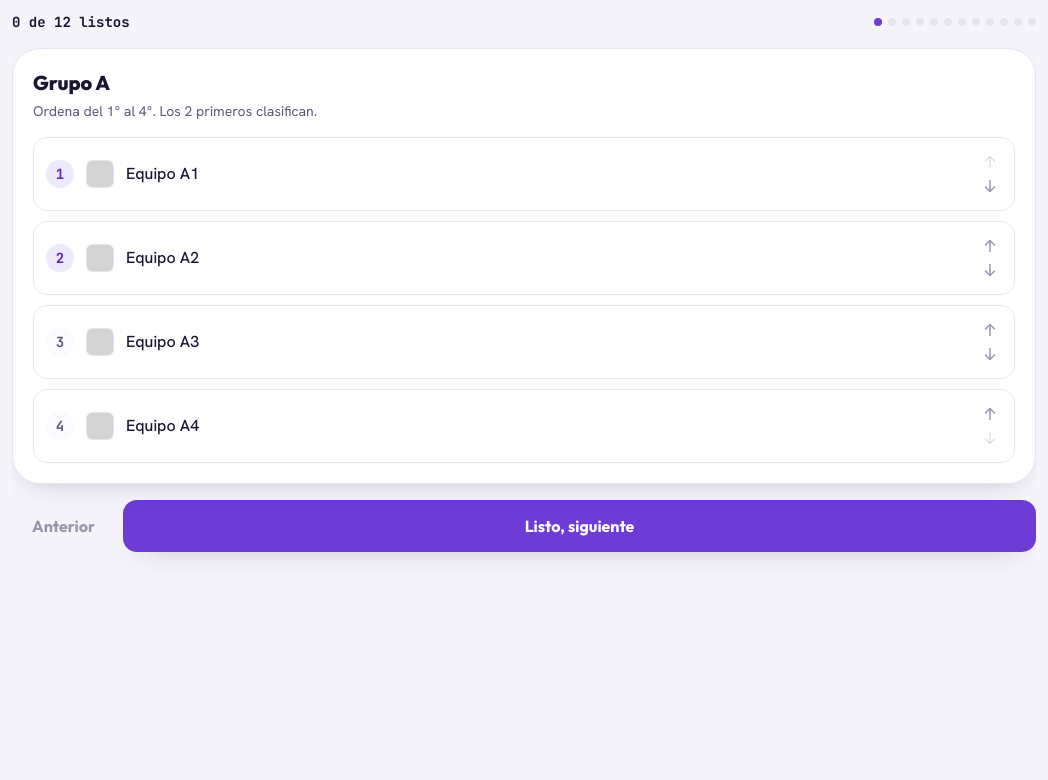
Scenario: GroupDeck › guardar un grupo sube el contador (invalida predictionsMe)
The image size is (1048, 780).
Expected: the text "0 de 12 listos" is shown, 12,12 -> 130,32
What coordinates should you click on to do the following:
click the button "Listo, siguiente"
I would click on:
 (580, 526)
Its box is 123,500 -> 1036,552.
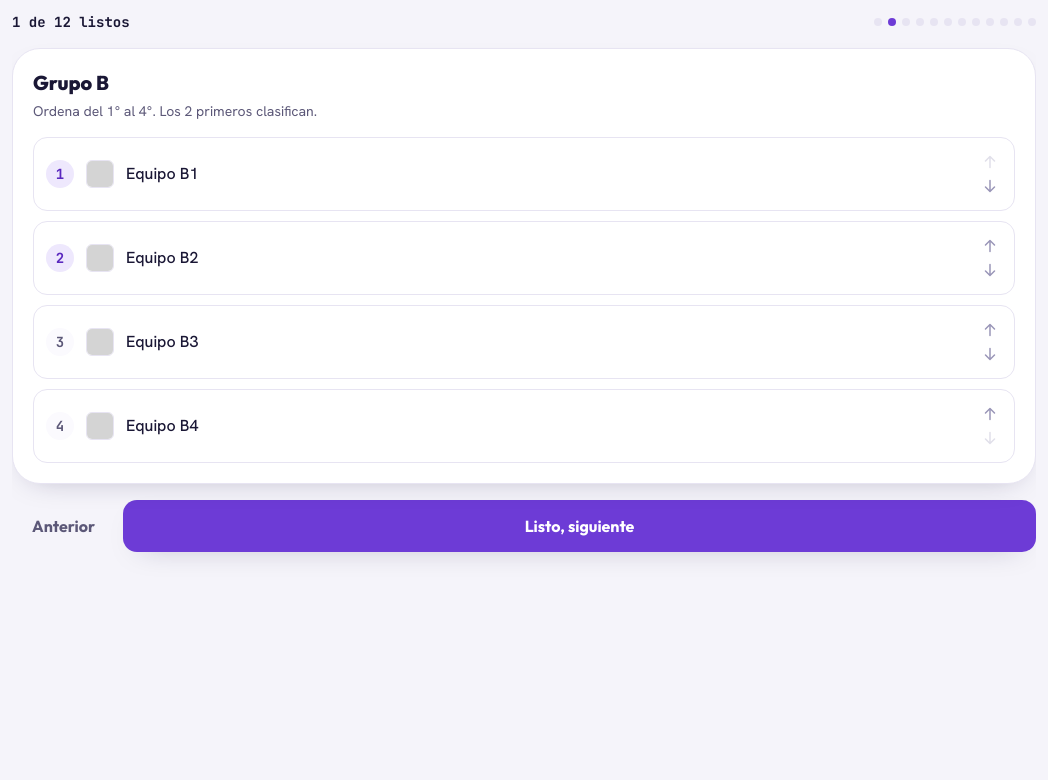
Expected: the text "1 de 12 listos" is shown, 12,12 -> 130,32
